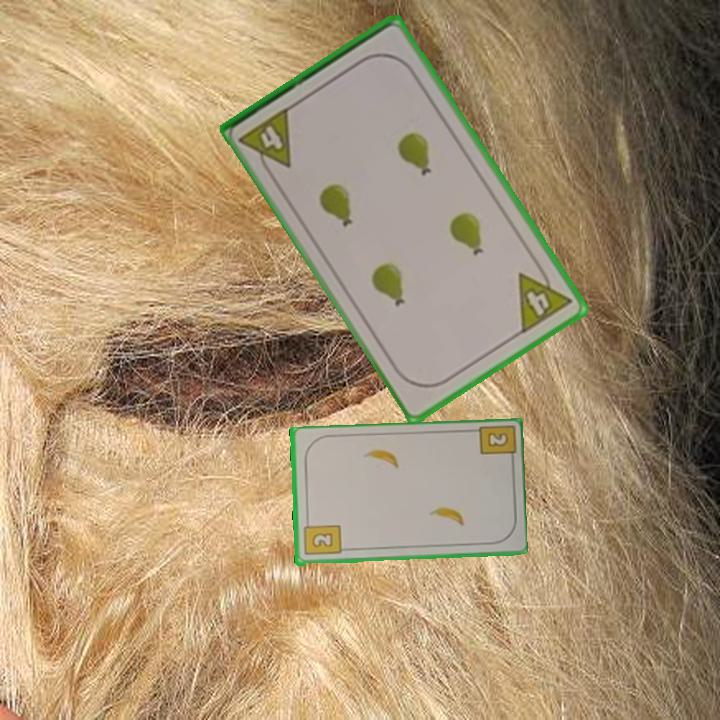2b: (473, 423, 516, 467), (300, 516, 343, 558)
4p: (514, 258, 575, 337), (235, 103, 296, 180)
